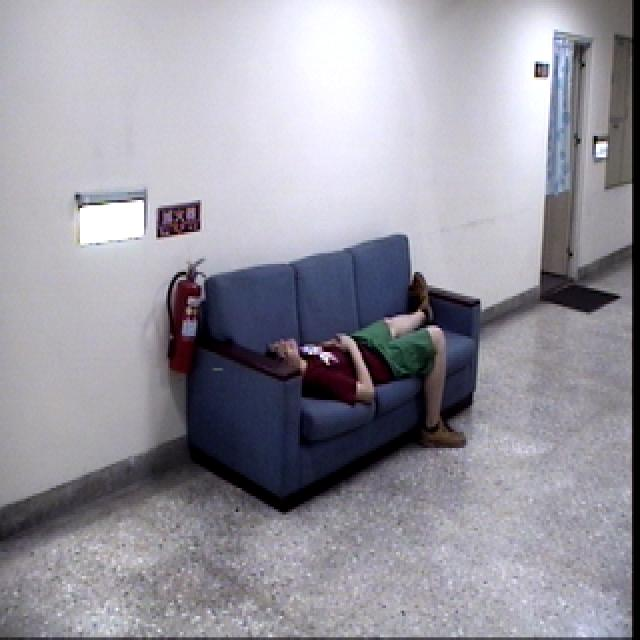lie: (270, 268, 470, 458)
